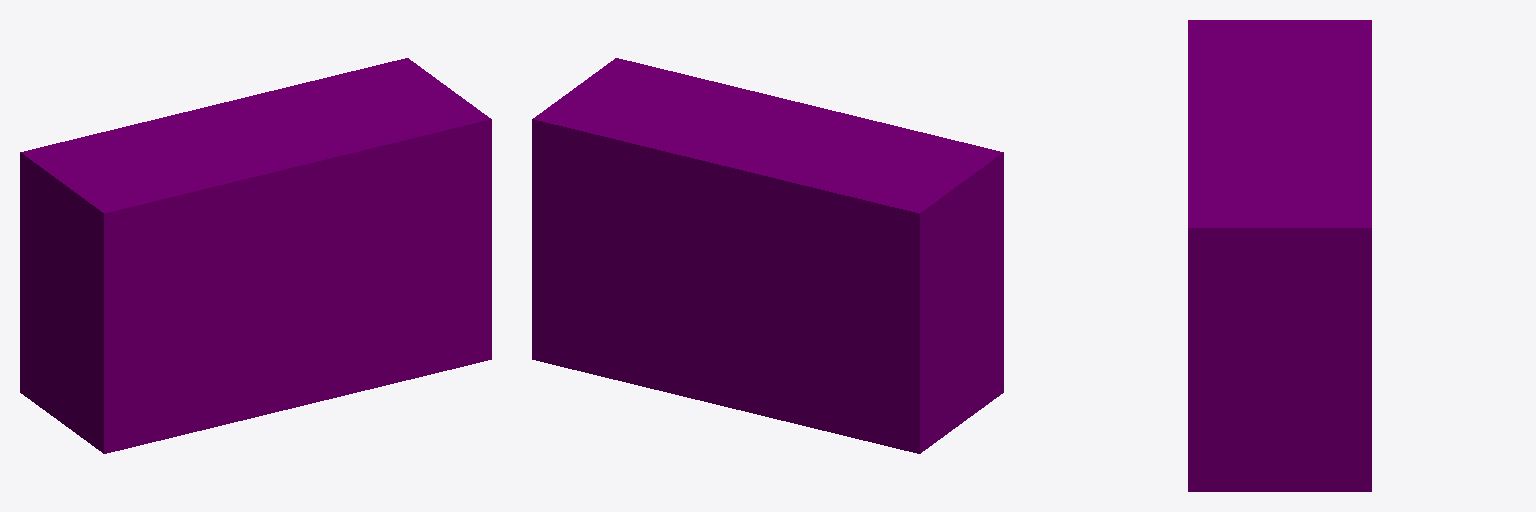
The robot description file, URDF, robot "box.urdf":
<?xml version="0.0" ?>
<robot name="box.urdf">
  <link name="baseLink">
    <contact>
      <lateral_friction value="0.5"/>
      <rolling_friction value="0.0"/>
      <contact_cfm value="0.0"/>
      <contact_erp value="1.0"/>
    </contact>
    <inertial>
      <origin rpy="0 0 0" xyz="0 0 0"/>
       <mass value=".01"/>
       <inertia ixx="1" ixy="0" ixz="0" iyy="1" iyz="0" izz="1"/>
    </inertial>
    <visual>
      <origin rpy="0 0 0" xyz="0 0 0"/>
      <geometry>
				<mesh filename="box.obj" scale="0.16 0.06 0.095"/>
      </geometry>
       <material name="white">
        <color rgba="0.5 0 0.5 1"/>
      </material>
    </visual>
    <collision>
      <origin rpy="0 0 0" xyz="0 0 0"/>
      <geometry>
	 	<box size="0.16 0.06 0.095"/>
      </geometry>
    </collision>
  </link>
</robot>

--- What the picture shows (computed from the rendered views, not written in the file) ---
The picture shows the robot from 3 angles, left to right: view 1: azimuth 30°, elevation 25°; view 2: azimuth 150°, elevation 25°; view 3: azimuth 270°, elevation 25°; orthographic projection.
Robot: box.urdf — 1 links, 0 joints (none); root link baseLink; default pose: all joints at 0.
Links seen in each view (by area): view 1: baseLink; view 2: baseLink; view 3: baseLink.
Link boxes in pixels (x1,y1,x2,y2): baseLink: (20,58,491,453); baseLink: (532,58,1003,453); baseLink: (1188,20,1371,491).
Bounding box of the posed robot: 0.16 × 0.06 × 0.095 m (x, y, z).
1 mesh visuals loaded from 1 distinct referenced files (1 OBJ).